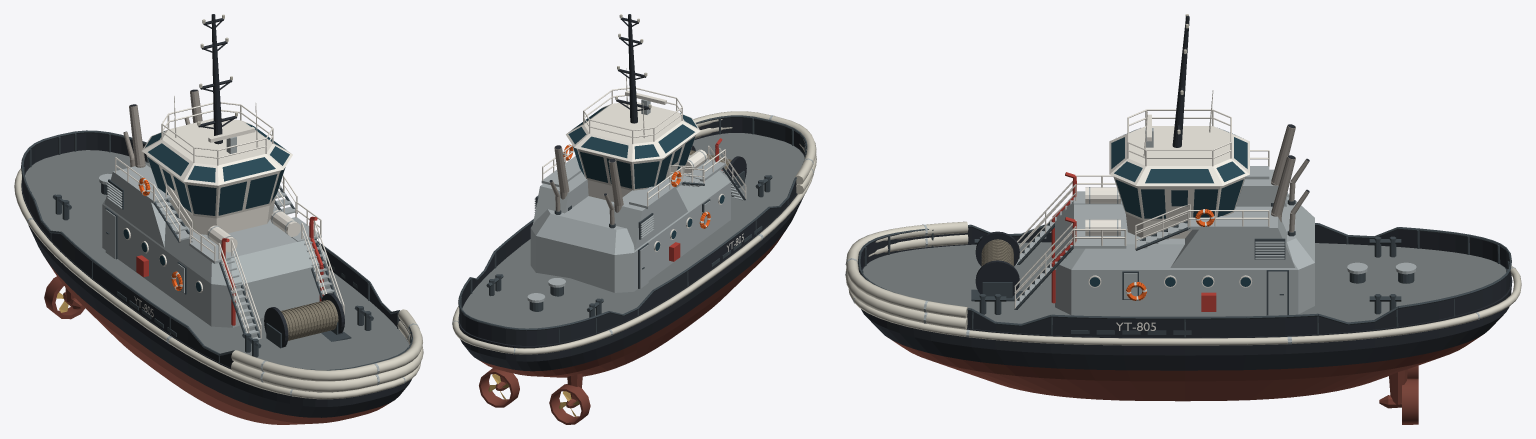
The model's file is navy_tug_mid.glb.
The picture shows the model from 3 angles, left to right: view 1: azimuth 30°, elevation 25°; view 2: azimuth 150°, elevation 25°; view 3: azimuth 270°, elevation 25°; orthographic projection. The views are drawn at different scales.
Parts seen in each view (by area): view 1: Navy tug YT-805; view 2: Navy tug YT-805; view 3: Navy tug YT-805.
Boxes of the visible parts, x1=… form: Navy tug YT-805: x1=14, y1=14, x2=423, y2=424; Navy tug YT-805: x1=452, y1=14, x2=816, y2=424; Navy tug YT-805: x1=845, y1=14, x2=1521, y2=424.
Size of the model in its own units: 9.82 by 17.53 by 27.83.
